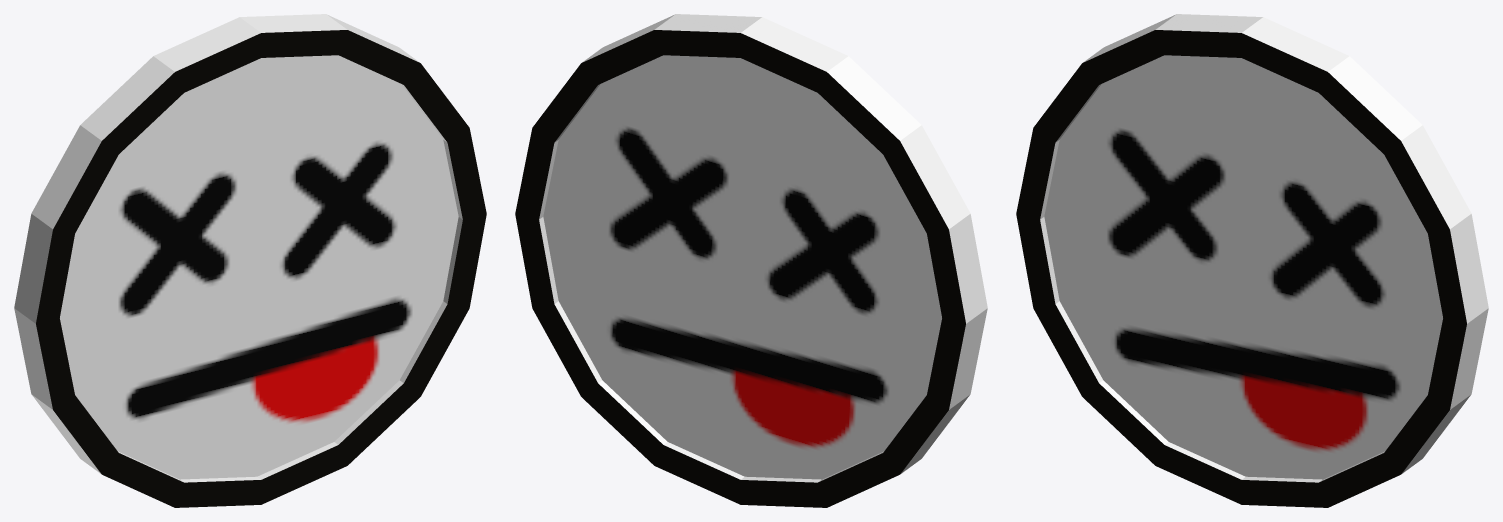
Rendered from barista-screwed.gltf.
3 views of the same model, side by side, from view 1: azimuth 30°, elevation 25°; view 2: azimuth 150°, elevation 25°; view 3: azimuth 330°, elevation 25° (orthographic).
Parts seen in each view (by area): view 1: barista-screwed; view 2: barista-screwed; view 3: barista-screwed.
Boxes of the visible parts, box(x1,y1,x2,y2) form: barista-screwed: box(14, 14, 486, 507); barista-screwed: box(515, 14, 987, 507); barista-screwed: box(1016, 14, 1488, 507).
Bounding box in the file's own units: 0.6 × 0.6 × 0.05.
1 material, 1 textured.
